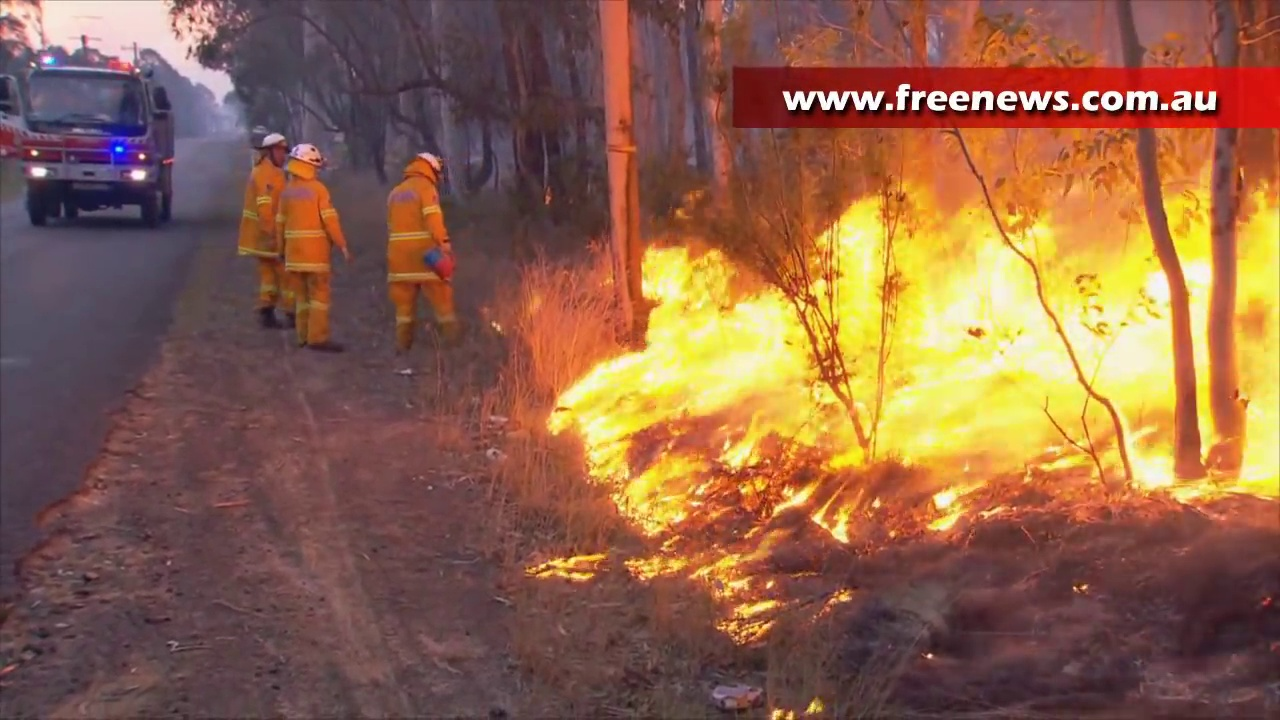fire: (547, 193, 1280, 525), (629, 552, 770, 645), (533, 549, 600, 583)
